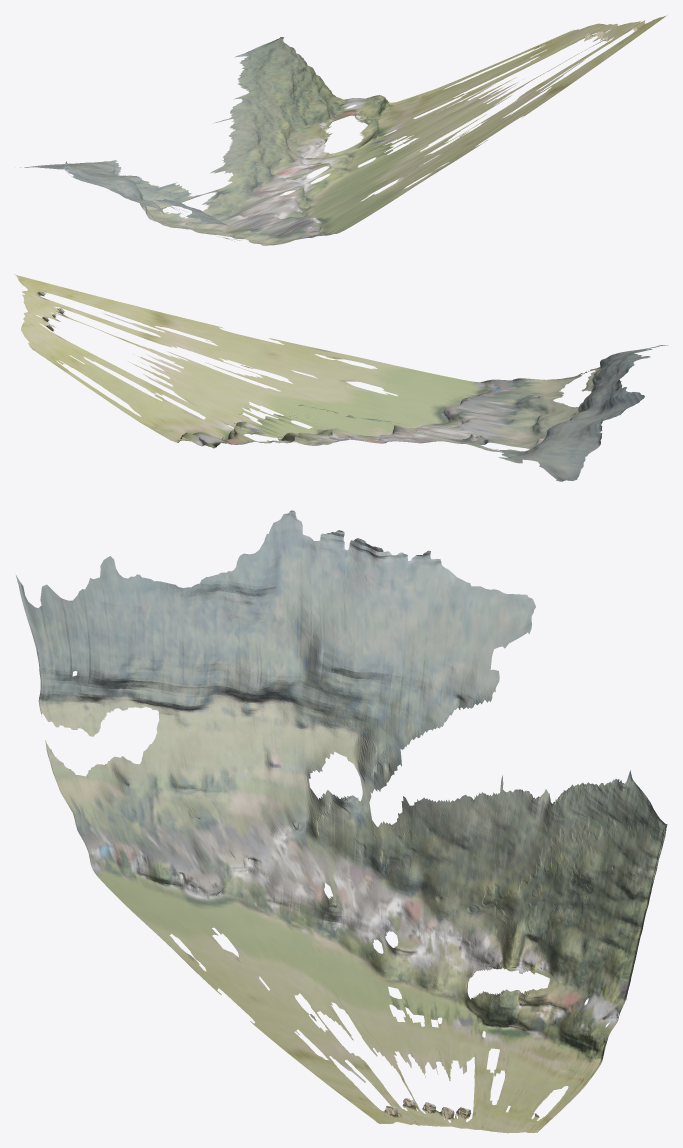
Rendered from render.glb.
The picture shows the model from 3 angles, top to bottom: view 1: azimuth 30°, elevation 25°; view 2: azimuth 150°, elevation 25°; view 3: azimuth 270°, elevation 25°; orthographic projection. The views are drawn at different scales.
Parts seen in each view (by area): view 1: geometry_0; view 2: geometry_0; view 3: geometry_0.
Part boxes in pixels (x1=…): geometry_0: x1=20, y1=15, x2=666, y2=245; geometry_0: x1=14, y1=274, x2=668, y2=481; geometry_0: x1=15, y1=510, x2=667, y2=1133.
Bounding box in the file's own units: 33.18 × 4.89 × 15.38.
